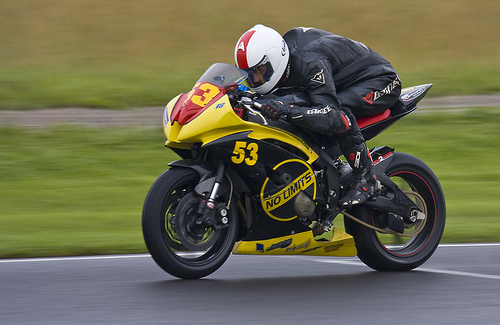helmet: (231, 24, 288, 91)
